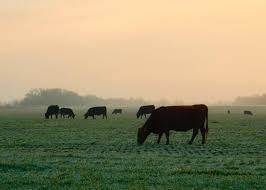cow: (138, 105, 209, 145), (84, 106, 108, 118), (45, 104, 62, 119), (138, 105, 157, 118), (58, 107, 76, 118), (111, 109, 124, 114), (242, 110, 254, 115)
